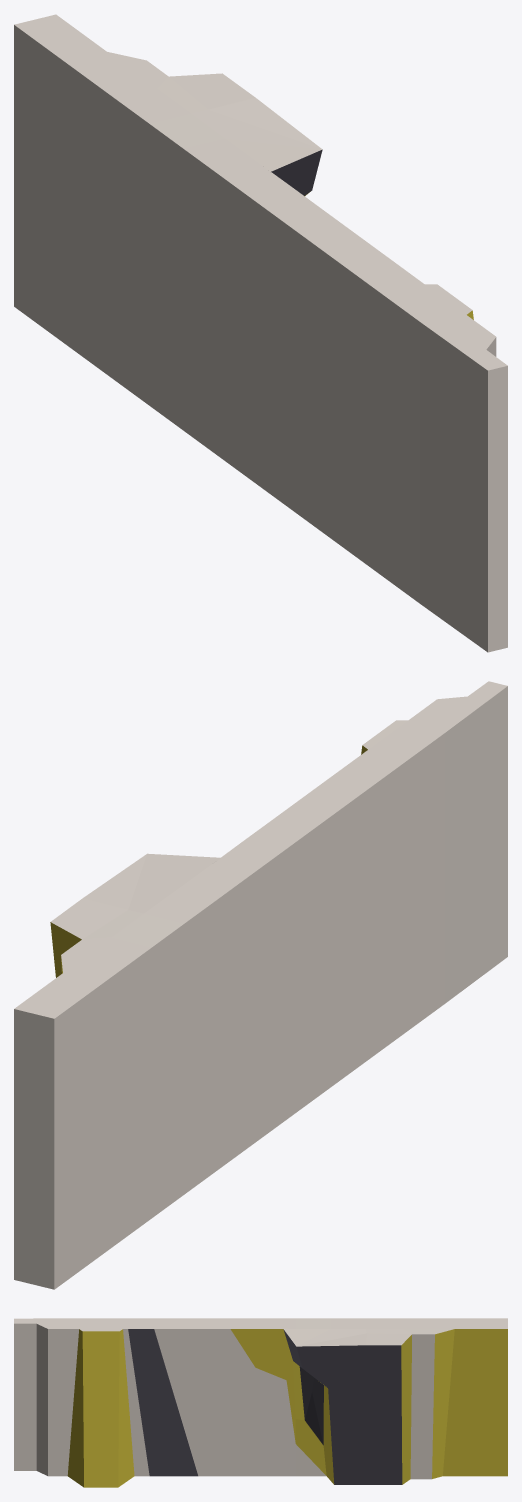
The model's file is wall.glb.
3 views of the same model, one above another, from view 1: azimuth 30°, elevation 25°; view 2: azimuth 150°, elevation 25°; view 3: azimuth 270°, elevation 25° (orthographic). The views are drawn at different scales.
Parts seen in each view (by area): view 1: Action Verticale Wall; view 2: Action Verticale Wall; view 3: Action Verticale Wall.
Boxes of the visible parts, <box> form: Action Verticale Wall: <box>14,14,507,652</box>; Action Verticale Wall: <box>14,681,507,1289</box>; Action Verticale Wall: <box>14,1318,507,1487</box>.
Bounding box in the file's own units: 5.05 × 12.8 × 38.9.
